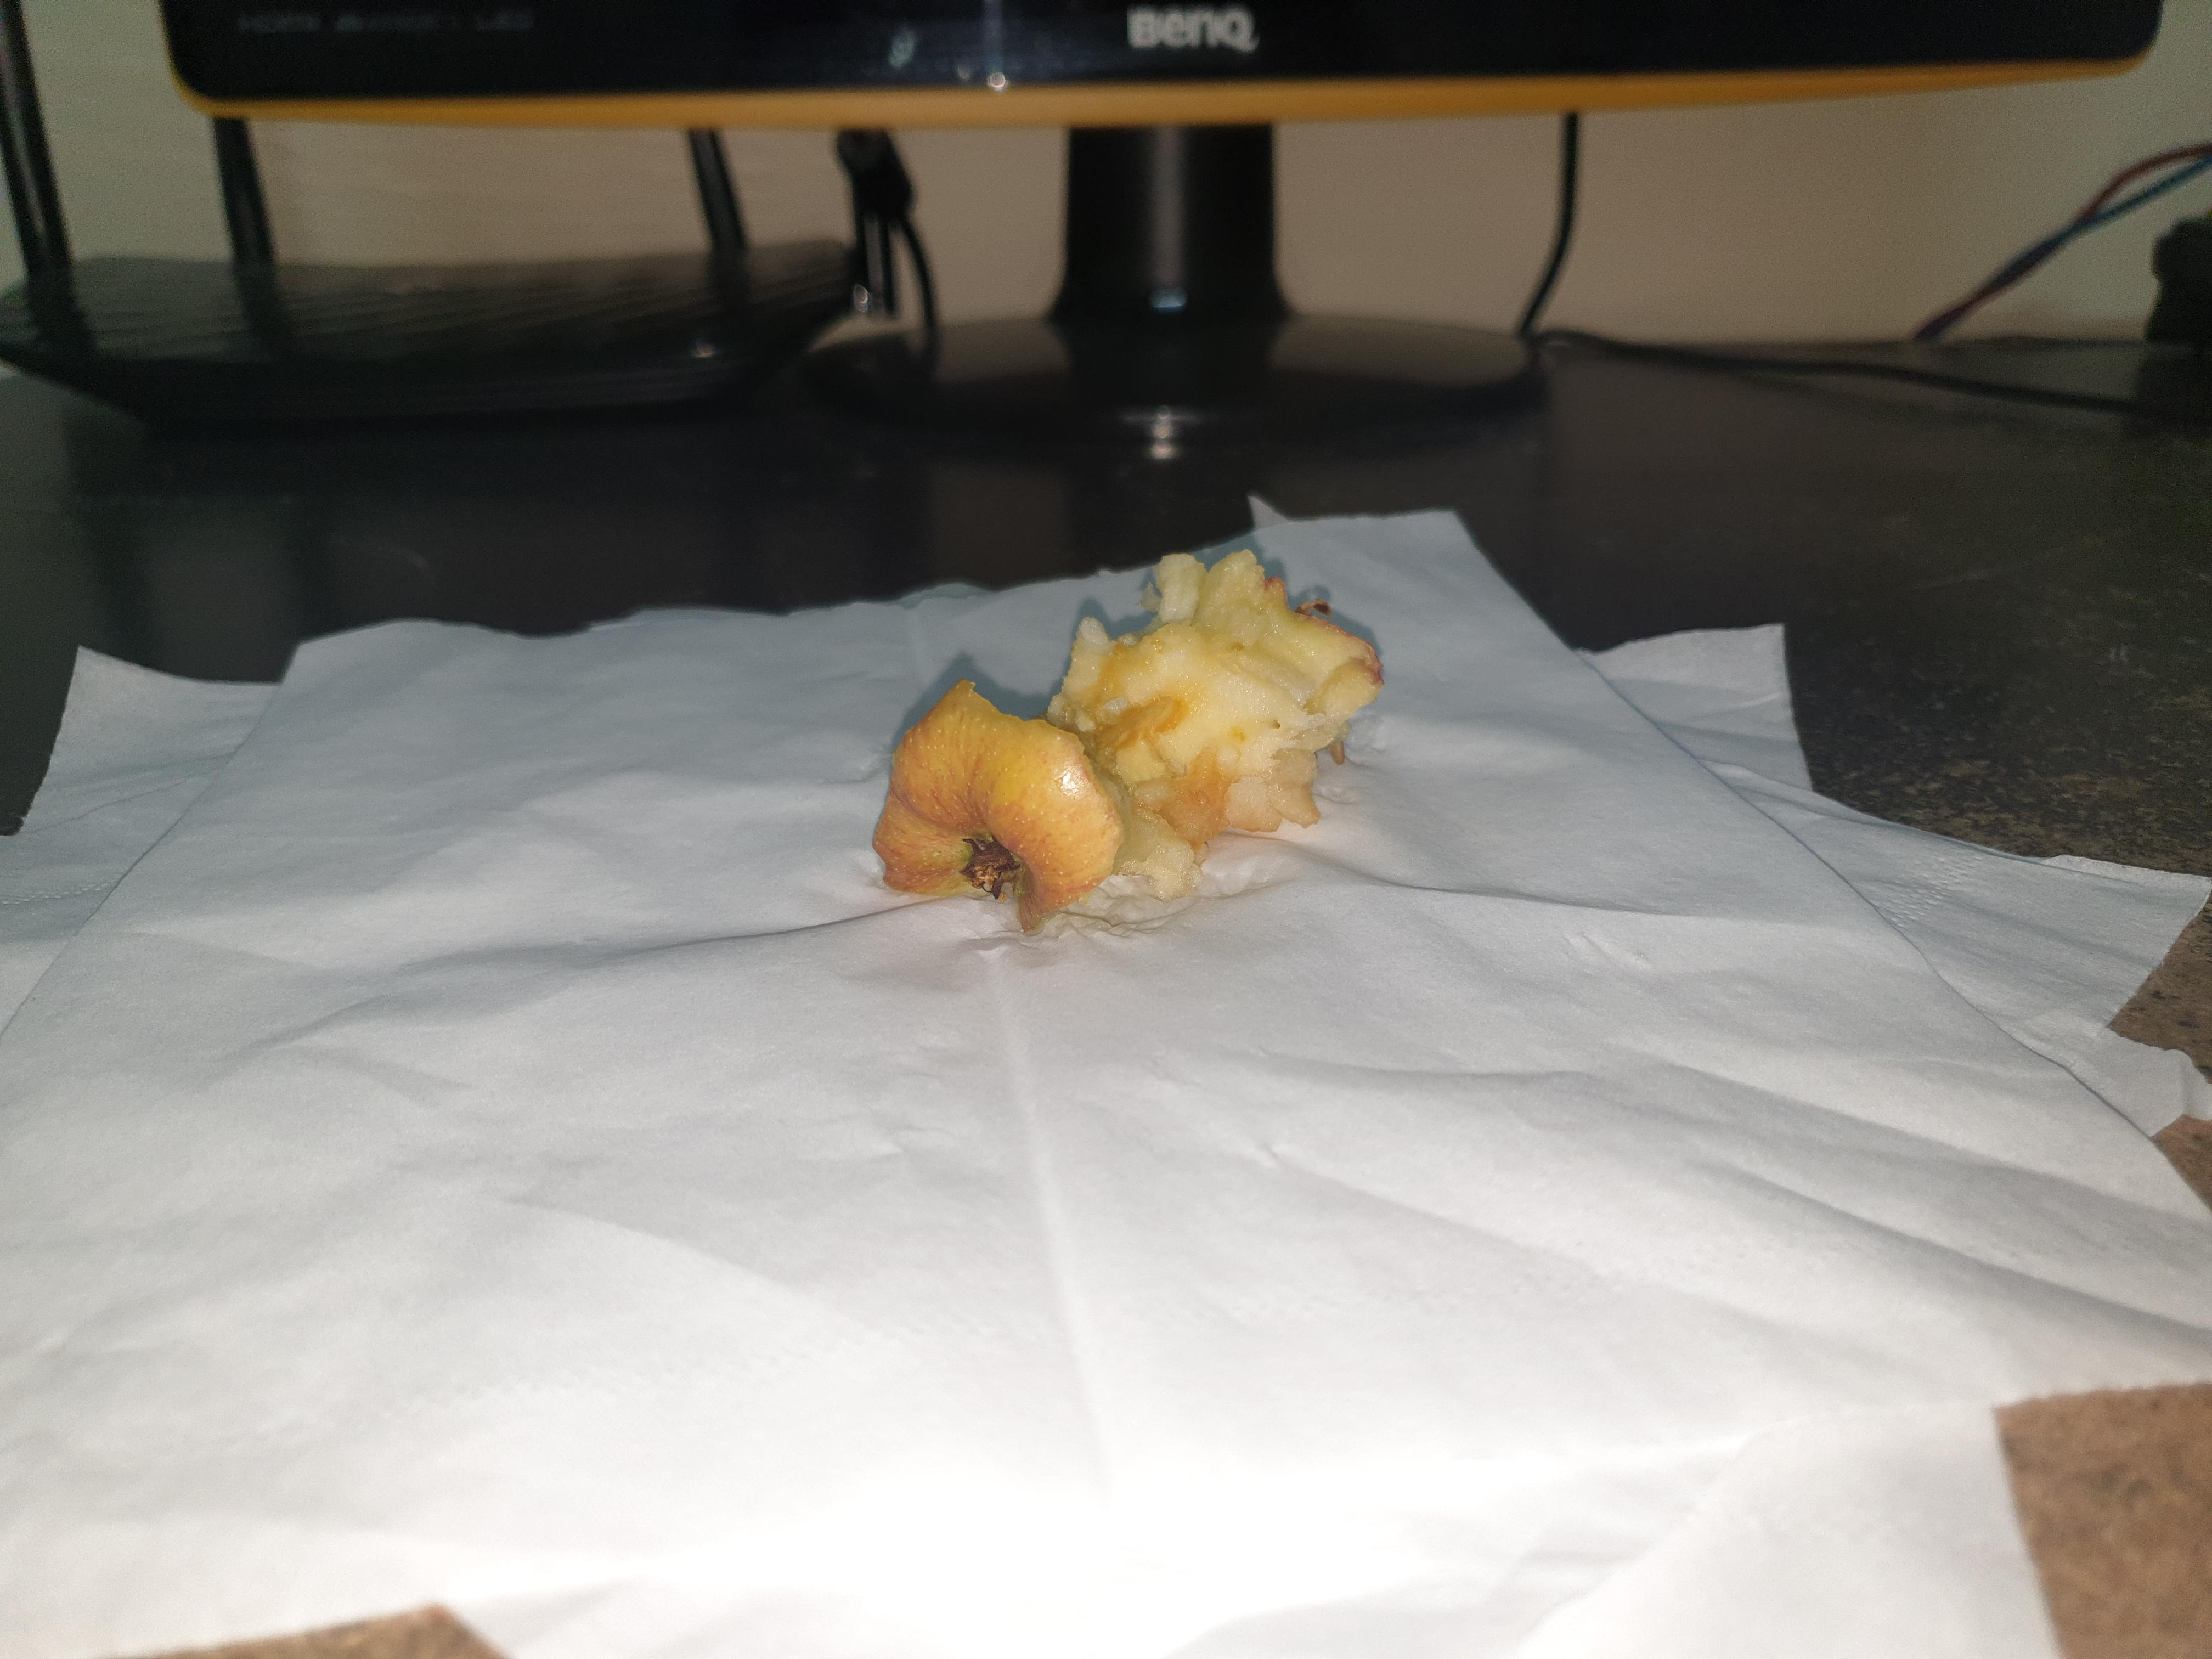Apple: (853, 521, 1406, 967)
